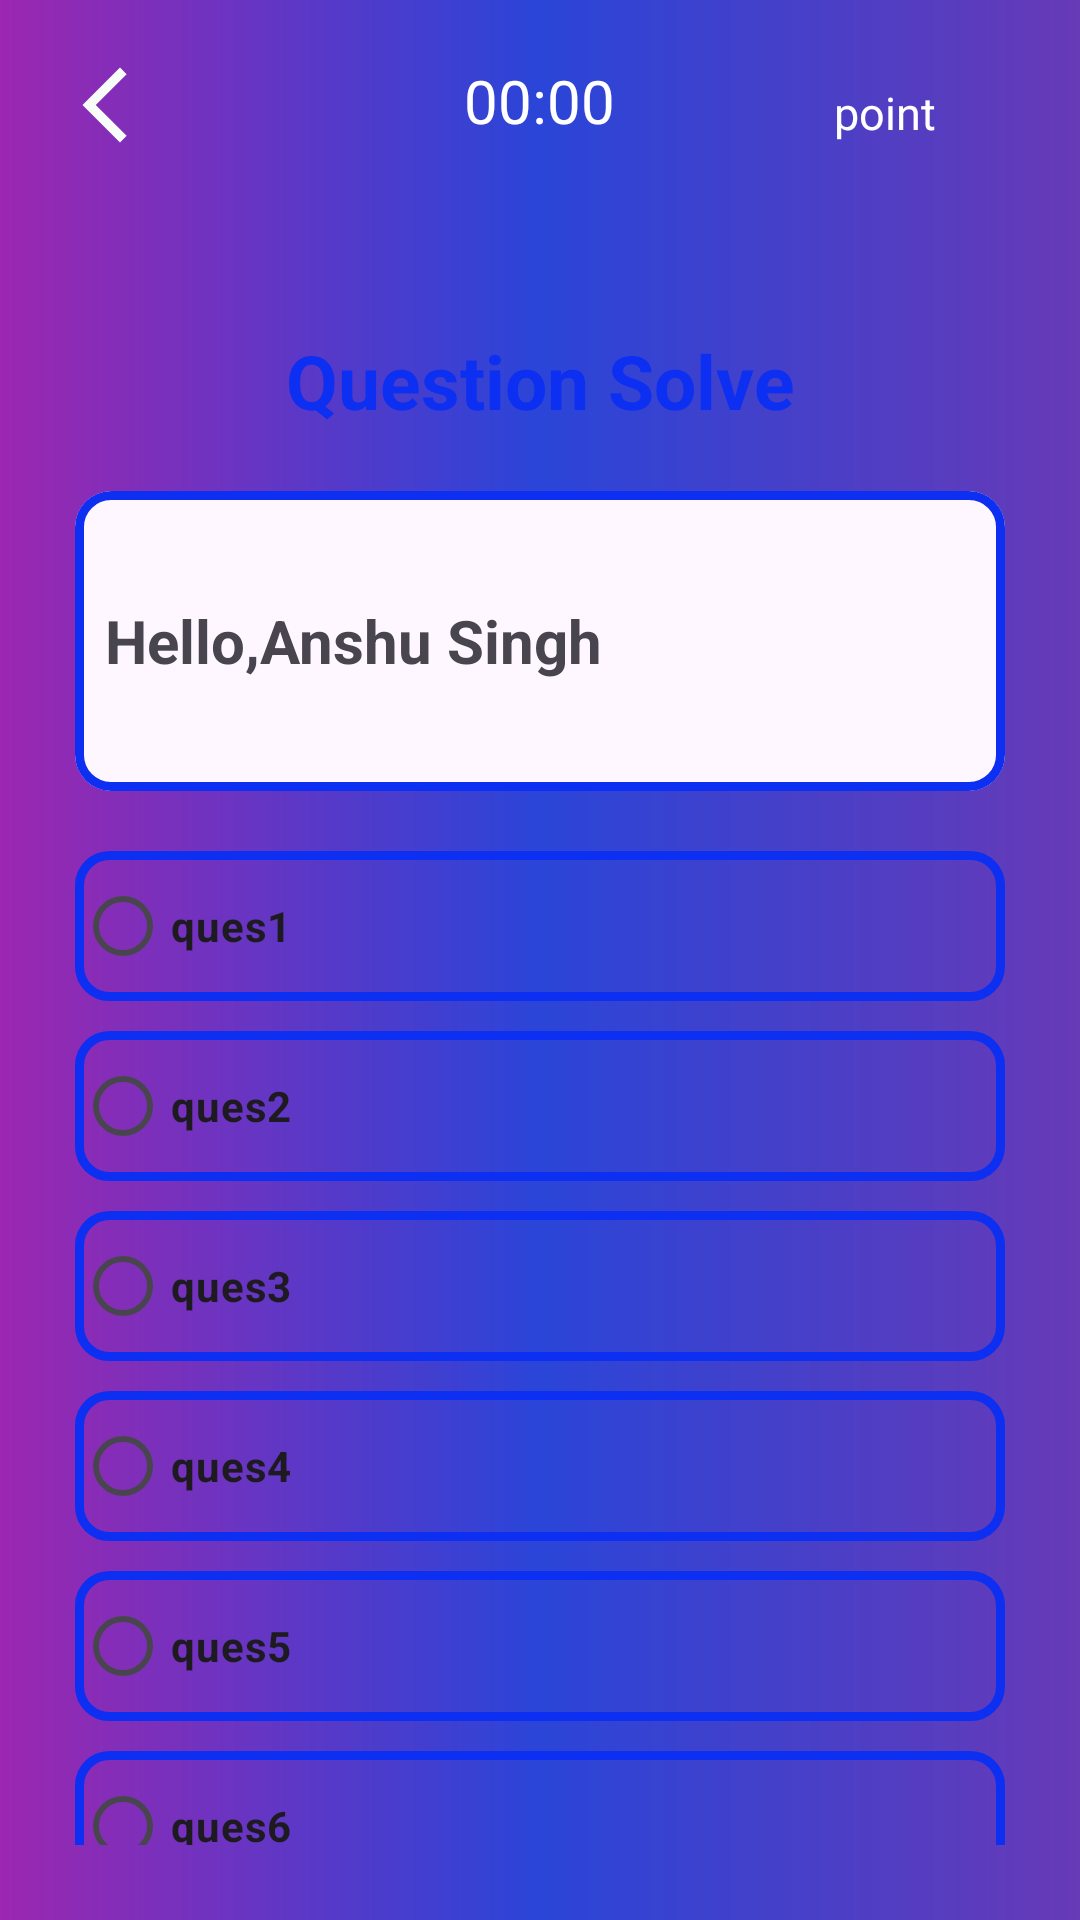

Icon bounding boxes for this 1080*1920 phone screenshot, format (x1, y1, x2, y2):
arrow back: (82, 60, 150, 150)
